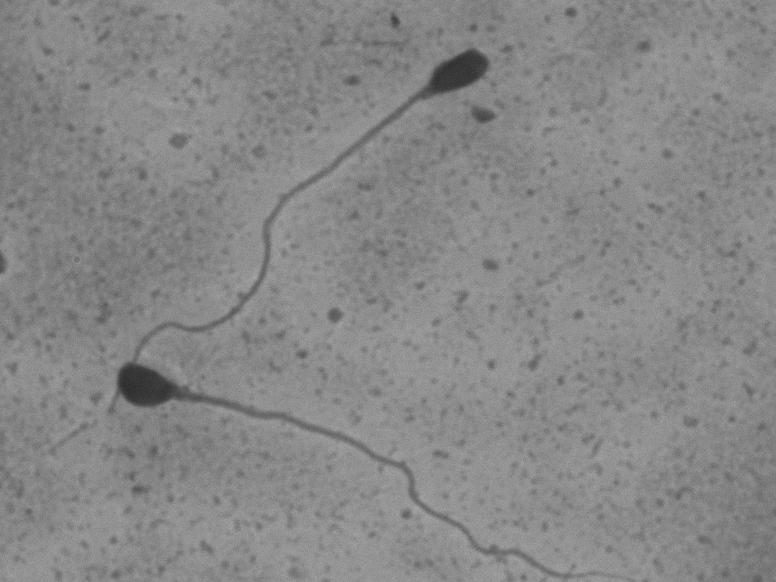Abnormal: (116, 30, 497, 364), (109, 358, 587, 579)
